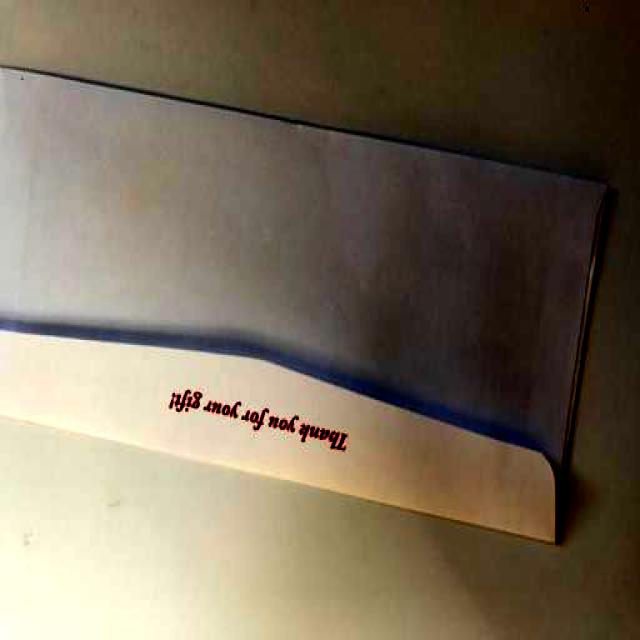Paper: (0, 54, 618, 555)
